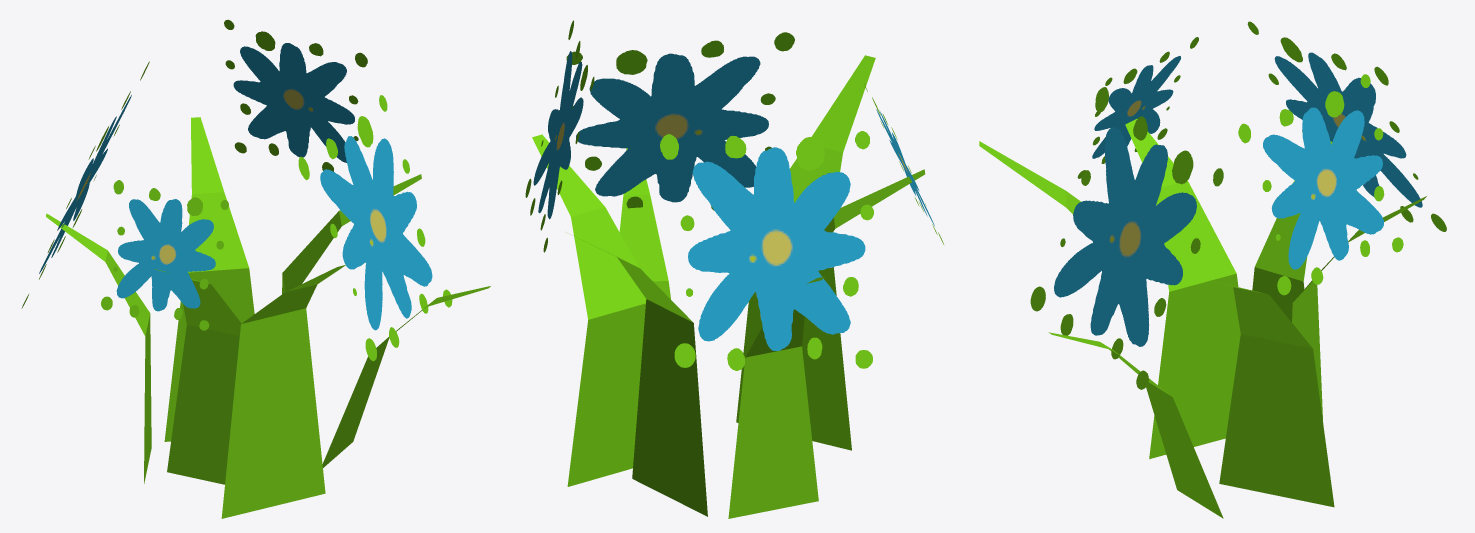
The model's file is flower.glb.
3 renders of one model, left to right at view 1: azimuth 30°, elevation 25°; view 2: azimuth 150°, elevation 25°; view 3: azimuth 270°, elevation 25°, orthographic. The views are drawn at different scales.
Parts seen in each view (by area): view 1: Plane.004; view 2: Plane.004; view 3: Plane.004.
Boxes of the visible parts, x1=… form: Plane.004: x1=21, y1=19, x2=490, y2=518; Plane.004: x1=525, y1=20, x2=943, y2=518; Plane.004: x1=979, y1=21, x2=1446, y2=518.
Bounding box in the file's own units: 0.4967 × 0.5071 × 0.5275.
1 material, 1 textured.
